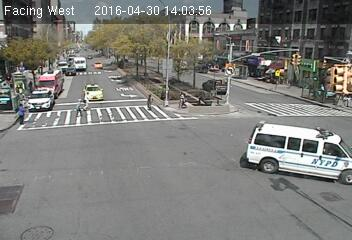neg: (245, 106, 295, 173), (123, 183, 156, 228), (103, 21, 133, 61), (49, 27, 78, 66), (160, 157, 187, 193), (319, 57, 344, 90), (16, 160, 40, 192), (279, 180, 303, 212), (285, 49, 306, 76), (227, 58, 247, 85), (96, 80, 116, 107), (64, 142, 84, 168), (257, 27, 269, 44)
pos: (70, 95, 88, 118), (10, 102, 27, 125), (141, 91, 157, 112), (174, 92, 189, 112)
